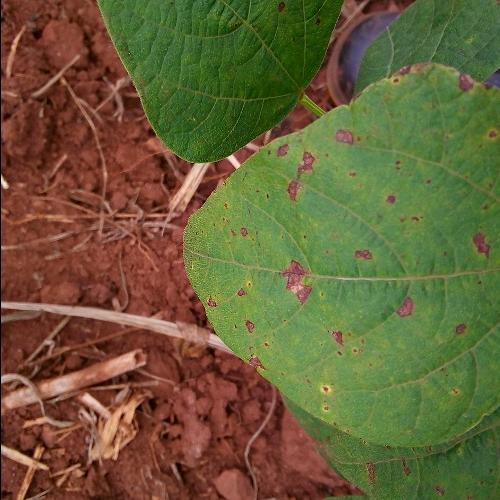hawar: (242, 90, 494, 420)
